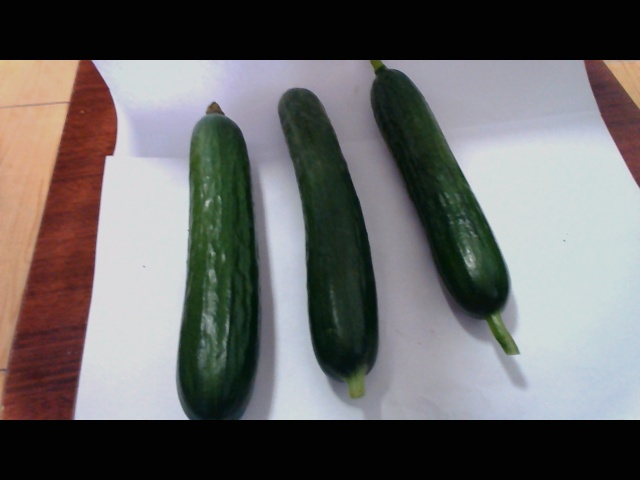cucumber: (375, 67, 536, 351), (271, 80, 381, 394), (166, 100, 259, 417)
